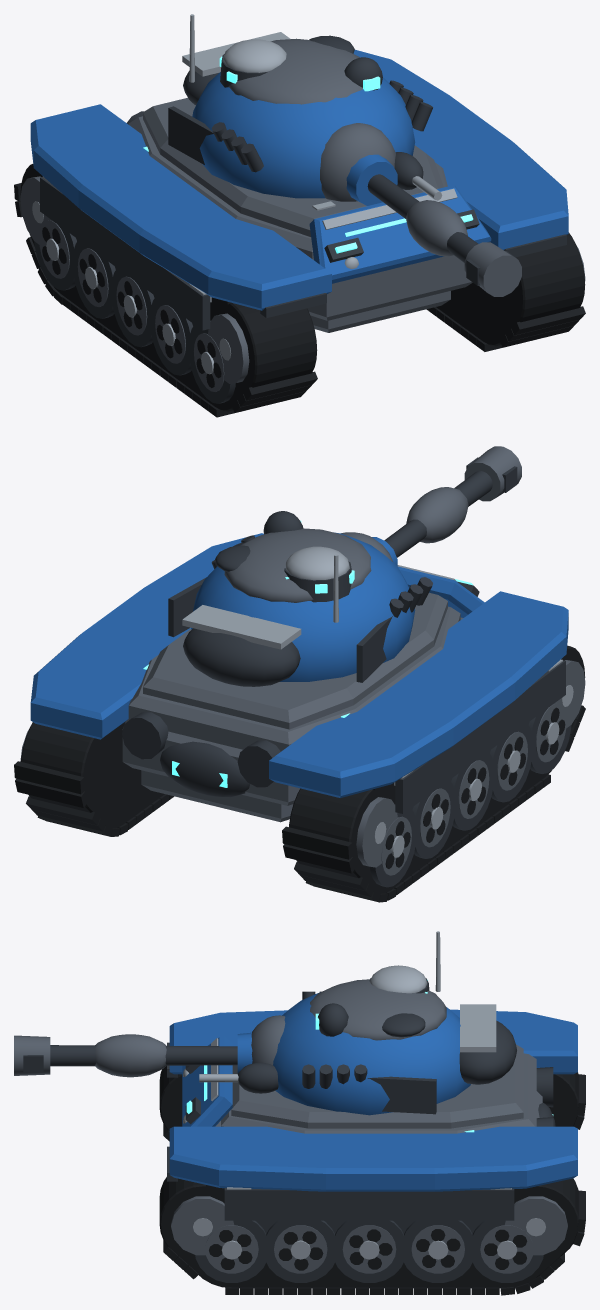
Rendered from sabre-medium-tank.glb.
3 renders of one model, top to bottom at view 1: azimuth 30°, elevation 25°; view 2: azimuth 150°, elevation 25°; view 3: azimuth 270°, elevation 25°, orthographic. The views are drawn at different scales.
Visible parts, largest first — view 1: fender, wheel_rim_0, track_belt, suspension_beam, wheel_hub_0, bow_glow; view 2: fender, wheel_rim_0, suspension_beam, track_belt, wheel_hub_0; view 3: fender, wheel_rim_0, suspension_beam, track_belt, wheel_hub_0.
Boxes of the visible parts, <box> form: fender: <box>30,49,568,310</box>; wheel_rim_0: <box>20,38,585,391</box>; track_belt: <box>14,164,585,417</box>; suspension_beam: <box>34,35,566,403</box>; wheel_hub_0: <box>32,14,457,374</box>; bow_glow: <box>143,56,473,253</box>; fender: <box>30,532,568,797</box>; wheel_rim_0: <box>20,446,585,875</box>; suspension_beam: <box>122,457,571,887</box>; track_belt: <box>14,645,585,902</box>; wheel_hub_0: <box>182,546,573,857</box>; fender: <box>169,992,577,1191</box>; wheel_rim_0: <box>14,979,567,1273</box>; suspension_beam: <box>23,978,555,1282</box>; track_belt: <box>159,1066,585,1295</box>; wheel_hub_0: <box>183,931,545,1259</box>.
Bounding box in the file's own units: 5.32 × 3.96 × 7.9.
